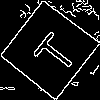T: (24, 24, 80, 77)
